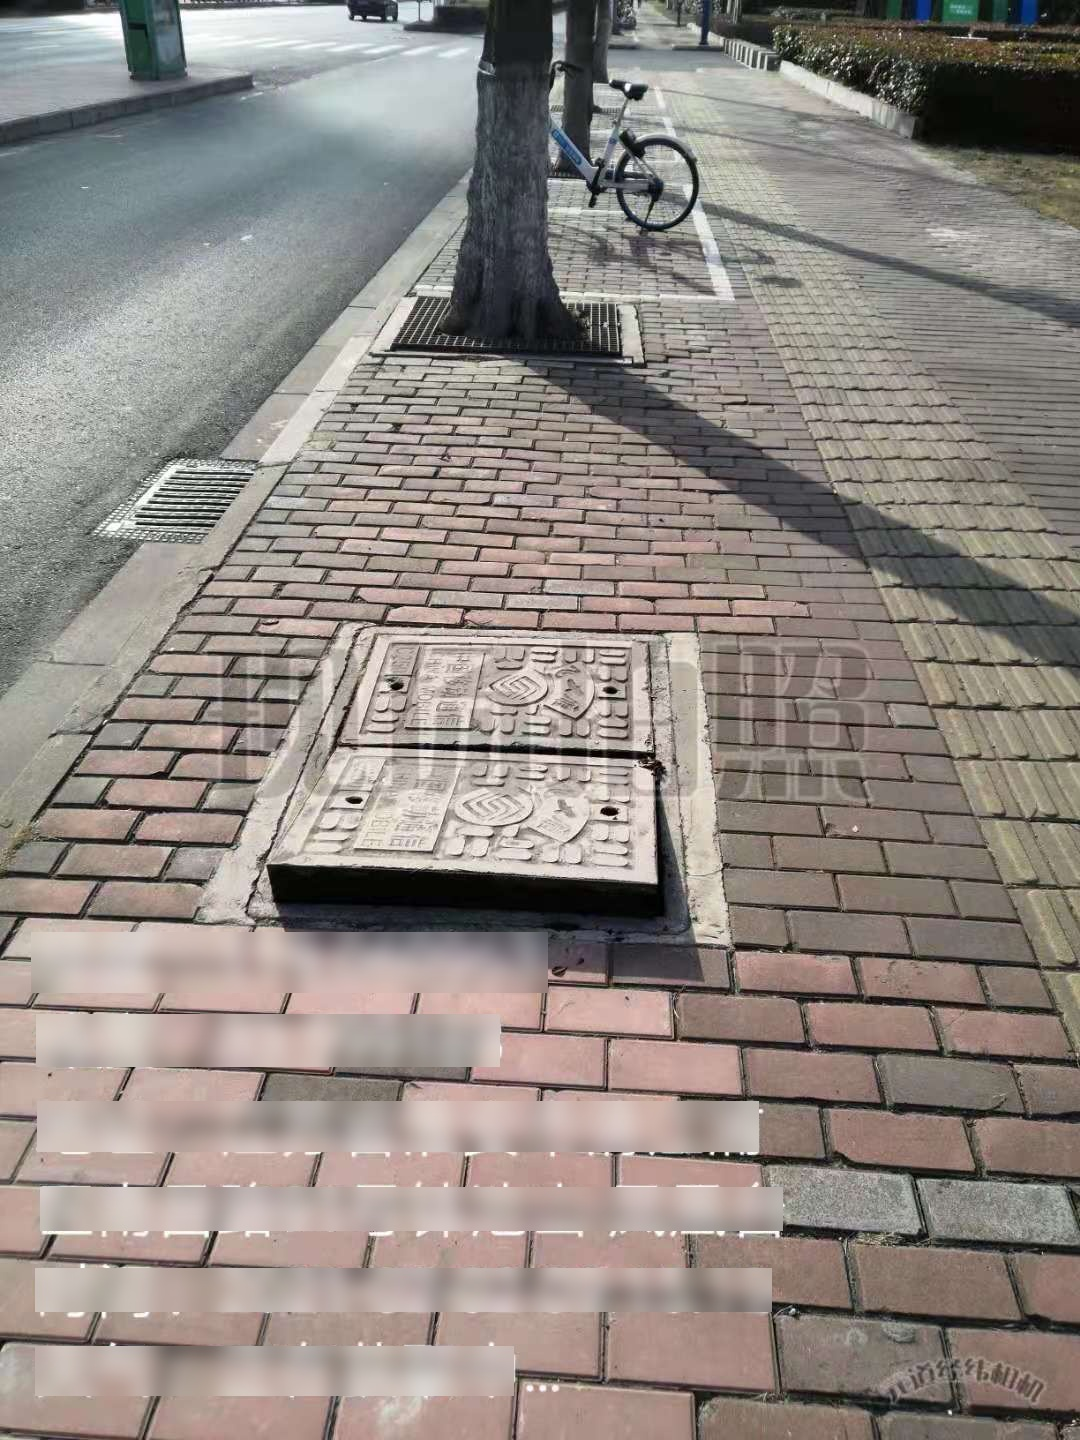uncovered: (248, 630, 697, 945)
